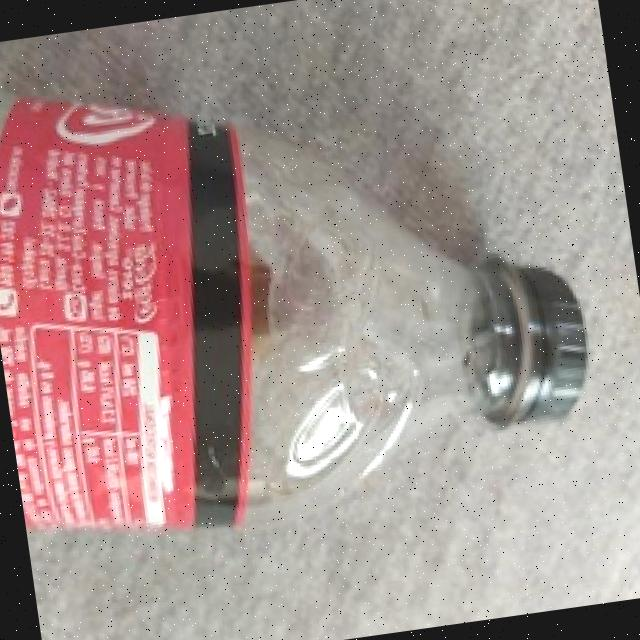bottle: (0, 8, 615, 554)
cap: (470, 251, 594, 432)
label: (0, 80, 297, 547)
